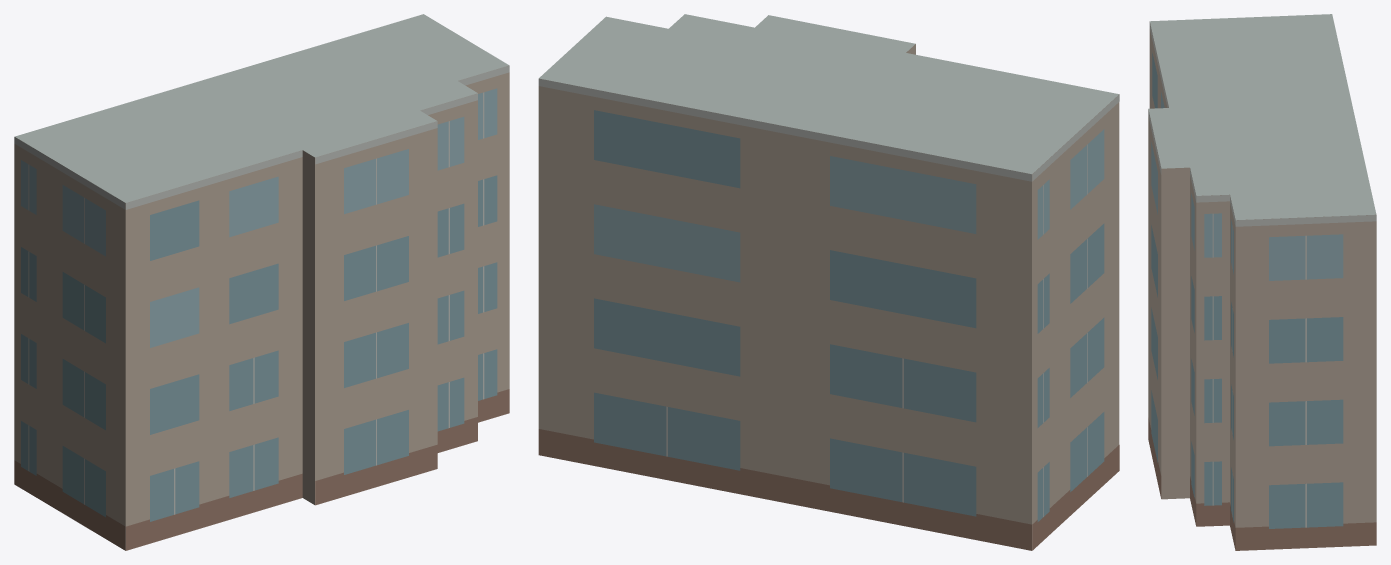
File: residential-45ef3411-64bf-41af-93d1-6a71e5e7c7d9.glb
3 renders of one model, left to right at view 1: azimuth 30°, elevation 25°; view 2: azimuth 150°, elevation 25°; view 3: azimuth 270°, elevation 25°, orthographic. The views are drawn at different scales.
Visible parts, largest first — view 1: residential-45ef3411-64bf-41af-93d1-6a71e5e7c7d9.tmp; view 2: residential-45ef3411-64bf-41af-93d1-6a71e5e7c7d9.tmp; view 3: residential-45ef3411-64bf-41af-93d1-6a71e5e7c7d9.tmp.
Part boxes in pixels (box(x1,y1,x2,y2)): residential-45ef3411-64bf-41af-93d1-6a71e5e7c7d9.tmp: box(14, 14, 509, 550); residential-45ef3411-64bf-41af-93d1-6a71e5e7c7d9.tmp: box(538, 14, 1119, 550); residential-45ef3411-64bf-41af-93d1-6a71e5e7c7d9.tmp: box(1148, 14, 1376, 550).
Size of the model in its own units: 16.32 by 12.2 by 7.64.
